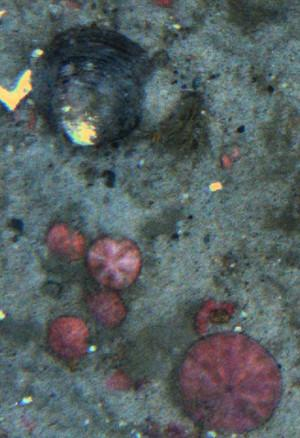Oyster-Closed: (31, 27, 157, 147)
